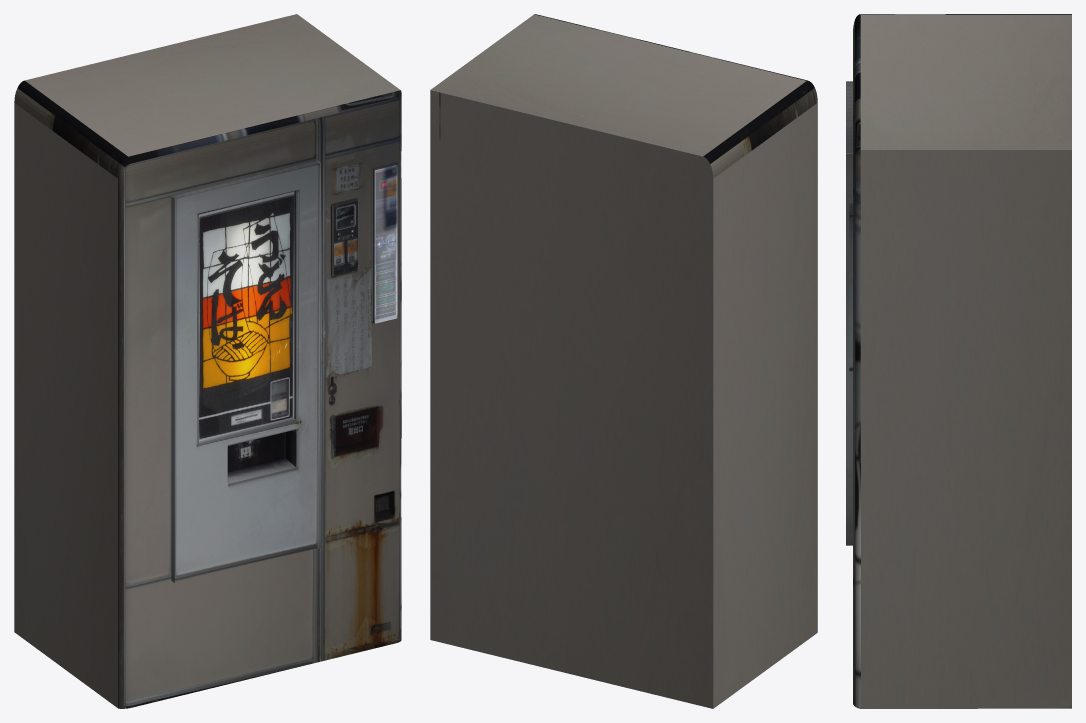
Rendered from chupito.glb.
3 renders of one model, left to right at view 1: azimuth 30°, elevation 25°; view 2: azimuth 150°, elevation 25°; view 3: azimuth 270°, elevation 25°, orthographic.
Visible parts, largest first — view 1: Object_3, Object_4, Object_5, Object_6; view 2: Object_3; view 3: Object_3.
Part boxes in pixels (x1,y1,x2,y2): Object_3: (14,14,401,708); Object_4: (199,191,294,441); Object_5: (374,165,397,323); Object_6: (332,200,358,275); Object_3: (430,14,817,708); Object_3: (846,14,1071,708).
Size of the model in its own units: 2.68 by 4.98 by 1.82.
Materials: 5 (4 with a texture image).
